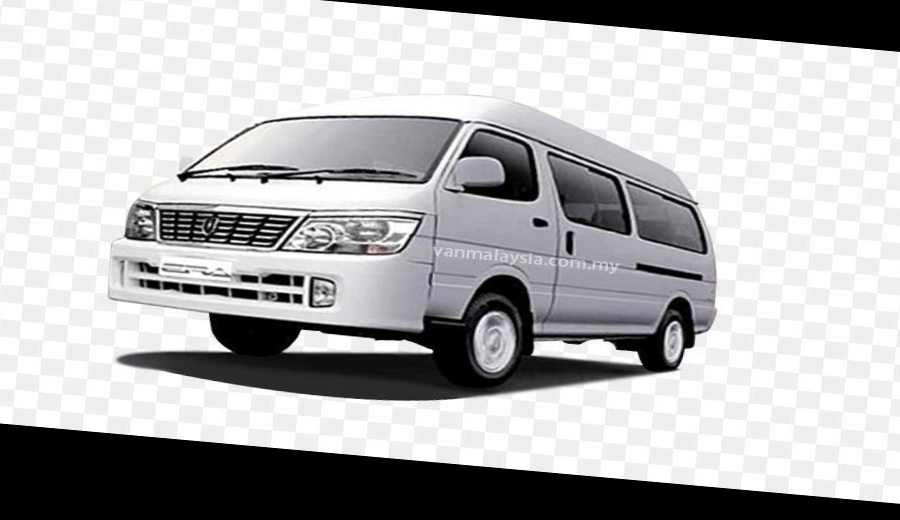van: (95, 63, 748, 386)
